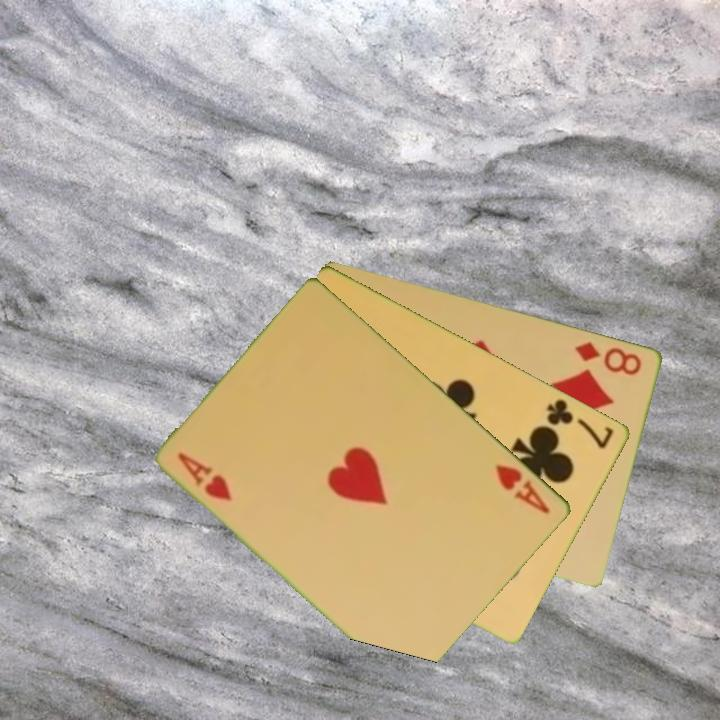7c: (543, 395, 617, 452)
8d: (571, 338, 645, 378)
Ah: (492, 460, 554, 517), (174, 448, 236, 505)
